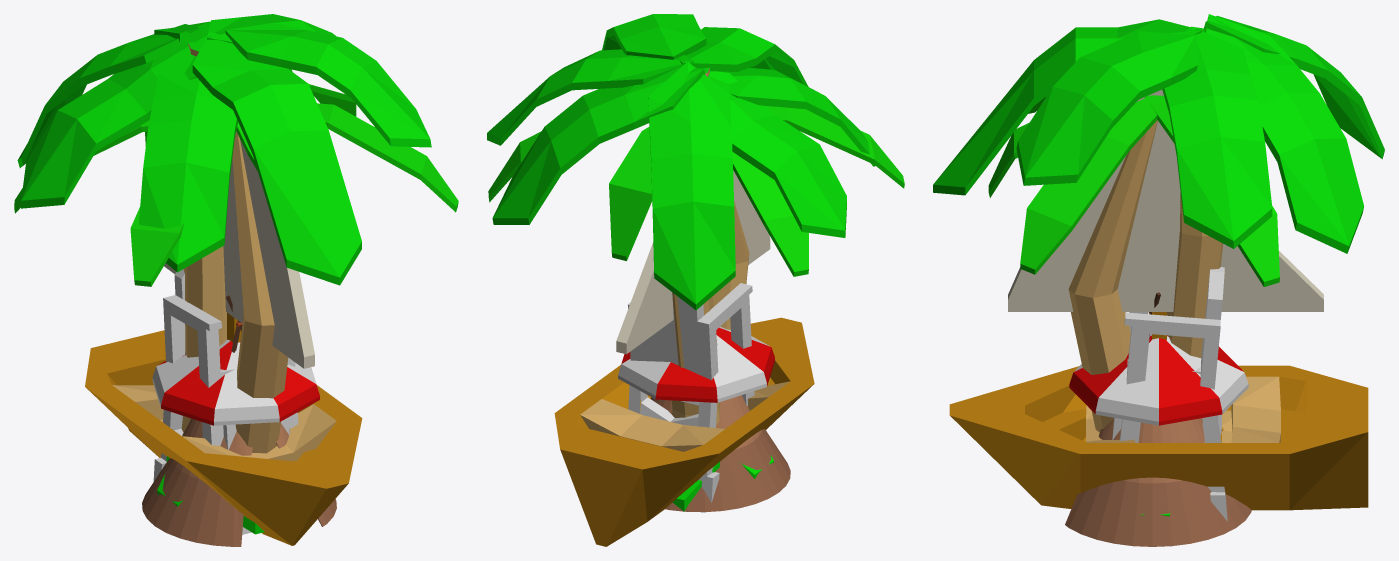
File: beach-v1.glb
3 views of the same model, side by side, from view 1: azimuth 30°, elevation 25°; view 2: azimuth 150°, elevation 25°; view 3: azimuth 270°, elevation 25° (orthographic). The views are drawn at different scales.
Parts seen in each view (by area): view 1: palm1, sailboat, palm2, umbrella1, tent, lifeguard; view 2: palm1, sailboat, palm2, lifeguard, umbrella1, tent, bush; view 3: palm1, sailboat, palm2, tent, umbrella1, lifeguard, boat.
Part boxes in pixels (<box>): palm1: <box>17,14,431,432</box>; sailboat: <box>85,139,362,545</box>; palm2: <box>14,84,458,453</box>; umbrella1: <box>152,339,319,425</box>; tent: <box>142,295,336,546</box>; lifeguard: <box>153,269,298,534</box>; palm1: <box>487,14,875,425</box>; sailboat: <box>554,170,814,546</box>; palm2: <box>488,106,904,330</box>; lifeguard: <box>628,283,754,502</box>; umbrella1: <box>618,326,774,402</box>; tent: <box>650,395,790,512</box>; bush: <box>672,455,773,511</box>; palm1: <box>933,14,1384,418</box>; sailboat: <box>949,89,1368,510</box>; palm2: <box>988,95,1279,432</box>; tent: <box>1065,292,1251,546</box>; umbrella1: <box>1069,334,1248,425</box>; lifeguard: <box>1112,267,1227,521</box>; boat: <box>1042,409,1306,442</box>.
Size of the model in its own units: 6.35 by 7.5 by 6.45.
